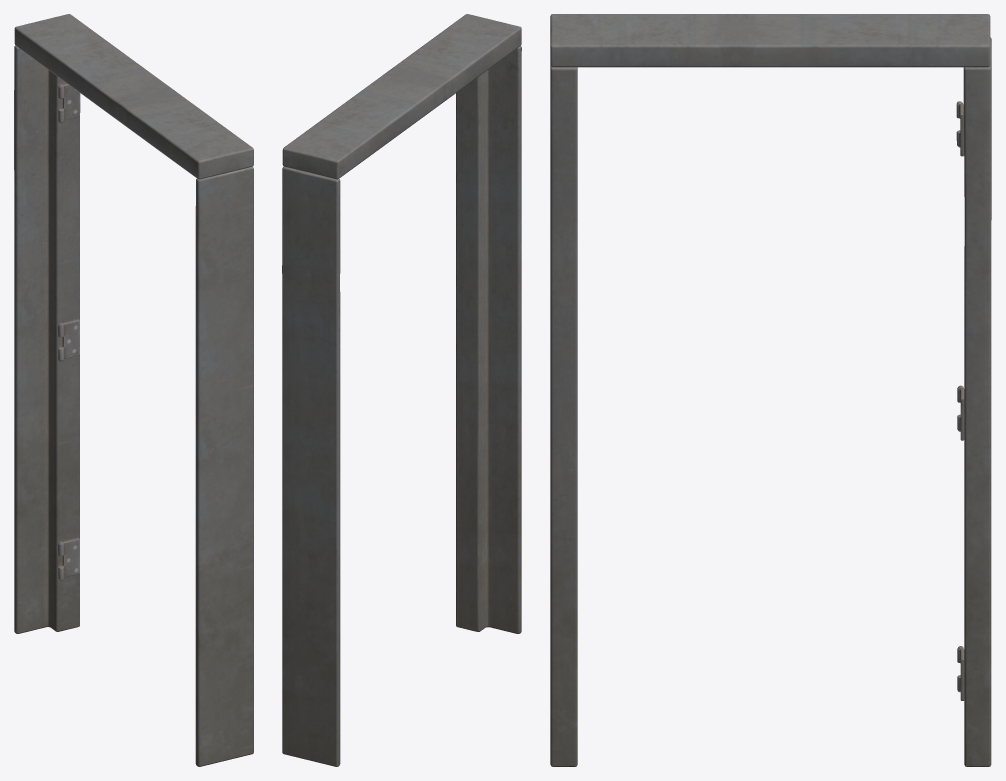
File: SM_Gateway_02.fbx
3 views of the same model, side by side, from view 1: azimuth 30°, elevation 25°; view 2: azimuth 150°, elevation 25°; view 3: azimuth 270°, elevation 25° (orthographic). The views are drawn at different scales.
Visible parts, largest first — view 1: SM_Gateway_02_LOD0; view 2: SM_Gateway_02_LOD0; view 3: SM_Gateway_02_LOD0.
Part boxes in pixels (x1,y1,x2,y2): SM_Gateway_02_LOD0: (14,14,253,766); SM_Gateway_02_LOD0: (282,14,521,766); SM_Gateway_02_LOD0: (550,14,991,766).
Size of the model in its own units: 22.01 by 126 by 227.
